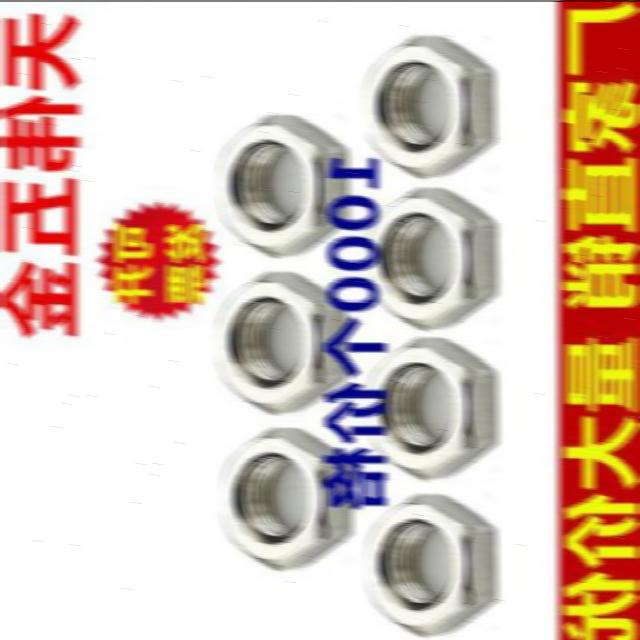Nut: (216, 424, 356, 572), (361, 491, 500, 637), (360, 33, 499, 178), (364, 186, 502, 332), (212, 267, 350, 413), (213, 112, 350, 257), (364, 334, 498, 480)
